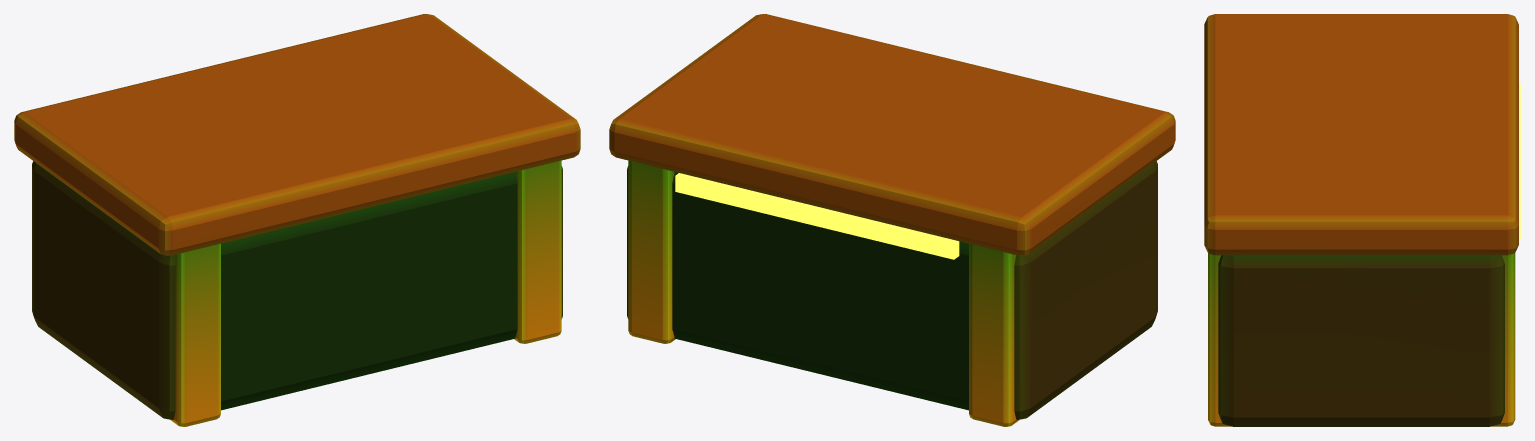
File: chest.glb
3 views of the same model, side by side, from view 1: azimuth 30°, elevation 25°; view 2: azimuth 150°, elevation 25°; view 3: azimuth 270°, elevation 25° (orthographic). The views are drawn at different scales.
Parts seen in each view (by area): view 1: chest; view 2: chest; view 3: chest.
Part boxes in pixels (left/top/right/bottom): chest: left=14, top=14, right=580, bottom=426; chest: left=609, top=14, right=1175, bottom=426; chest: left=1204, top=14, right=1520, bottom=426.
Bounding box in the file's own units: 1.36 × 0.66 × 0.865.
